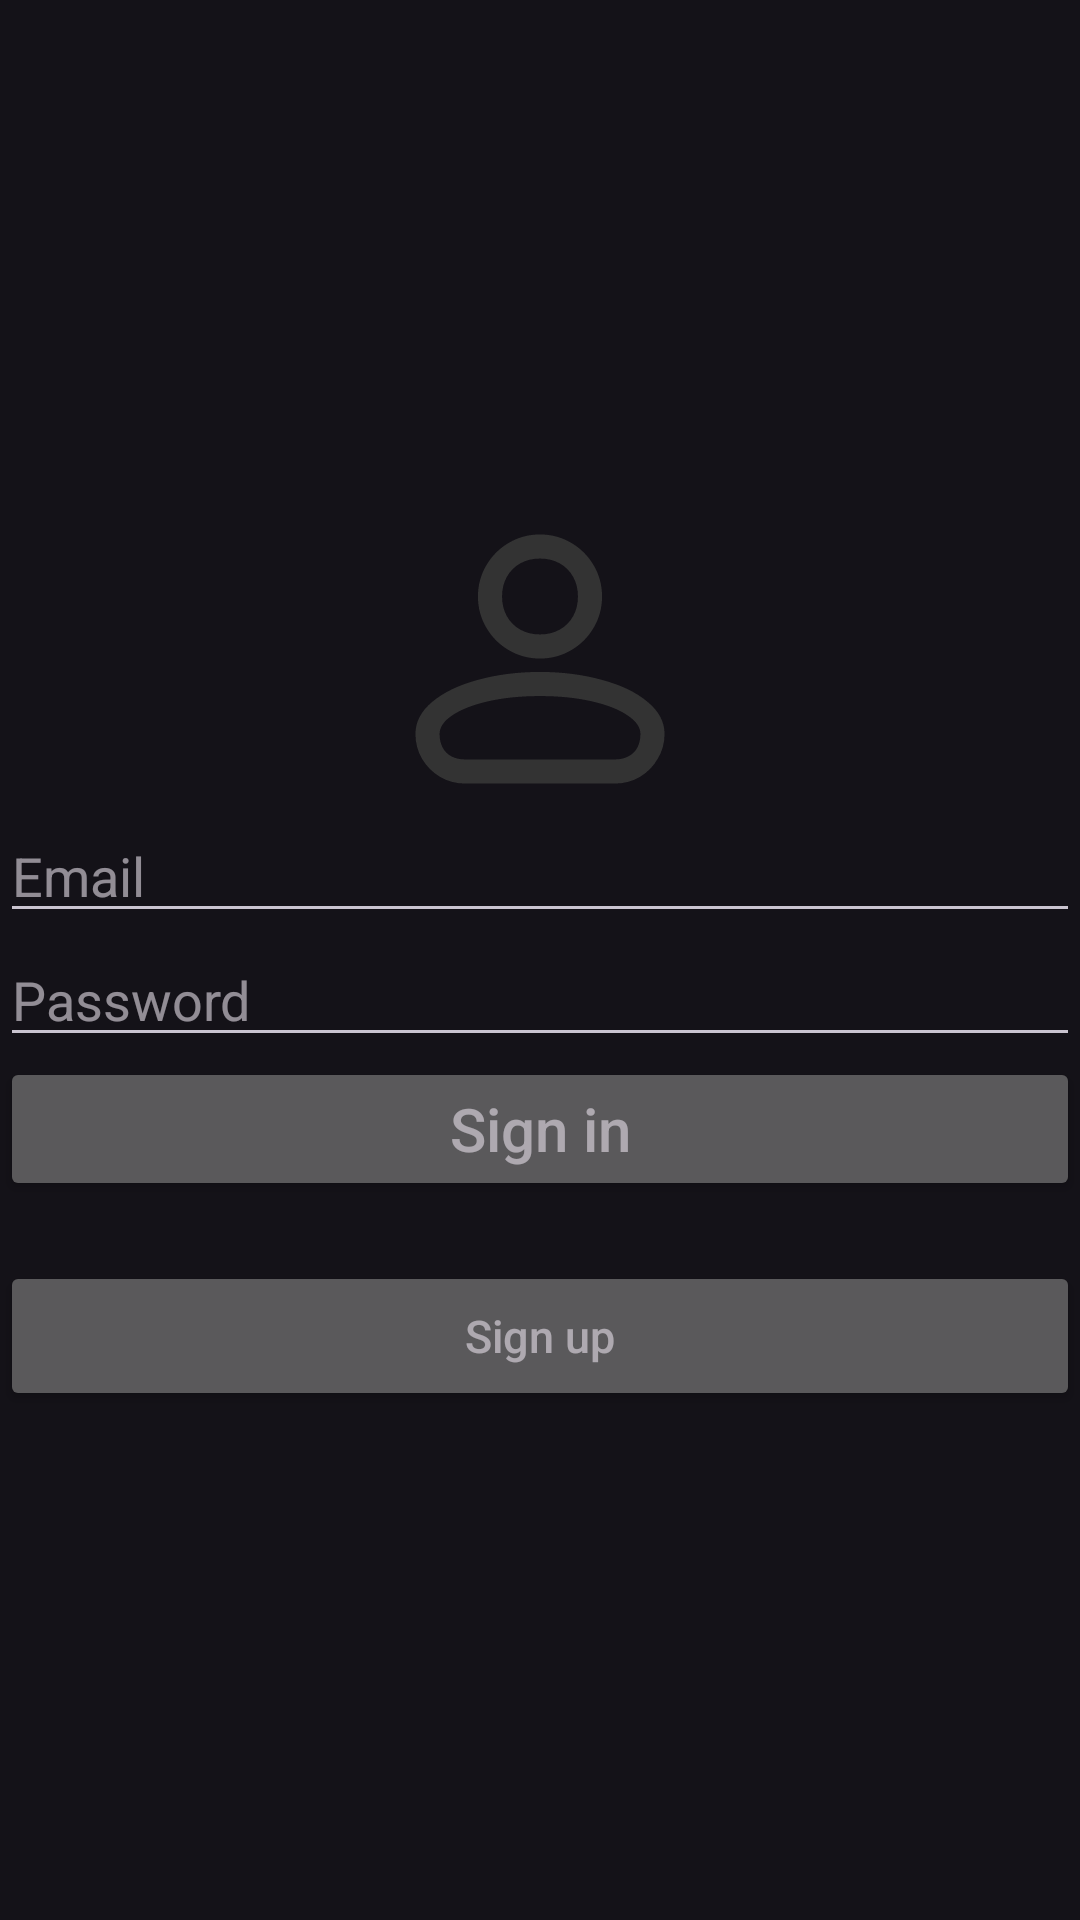

Point at icon controls on the screen. Image size 1080 x 1920, points as [x,y].
person: [540,659]
